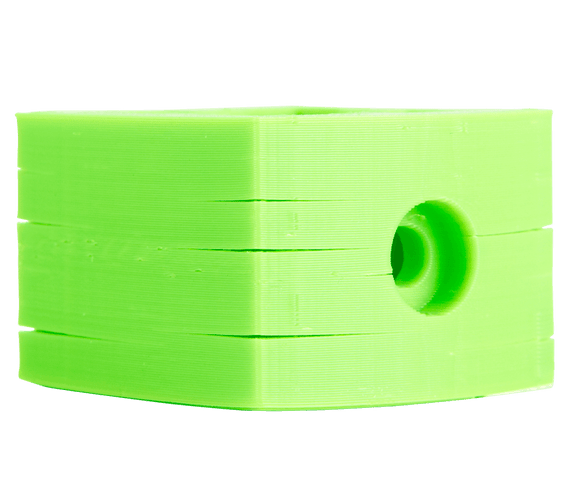crack: (147, 149, 378, 375), (4, 196, 114, 363), (462, 168, 562, 350)
